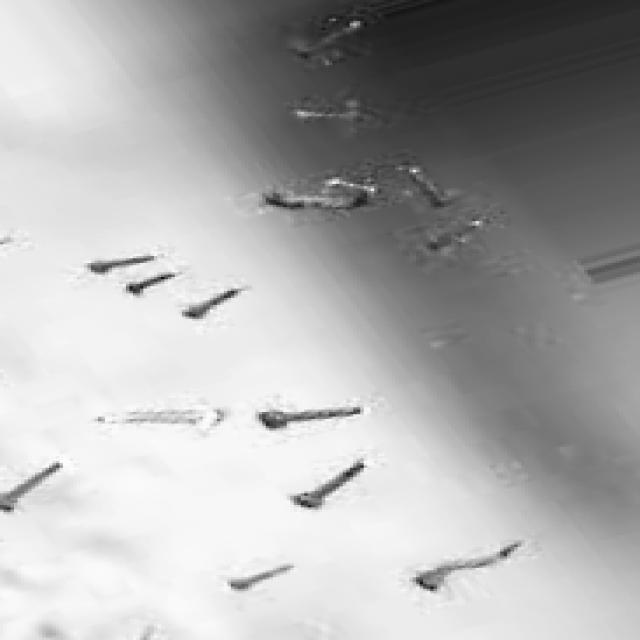larvas: (417, 544, 522, 590), (255, 182, 378, 209), (299, 462, 364, 508), (295, 23, 359, 59), (0, 464, 53, 507), (434, 212, 482, 252), (256, 410, 370, 426), (231, 564, 294, 590), (409, 168, 450, 205), (294, 105, 374, 121), (189, 290, 233, 318), (90, 257, 158, 273), (127, 273, 173, 295)
